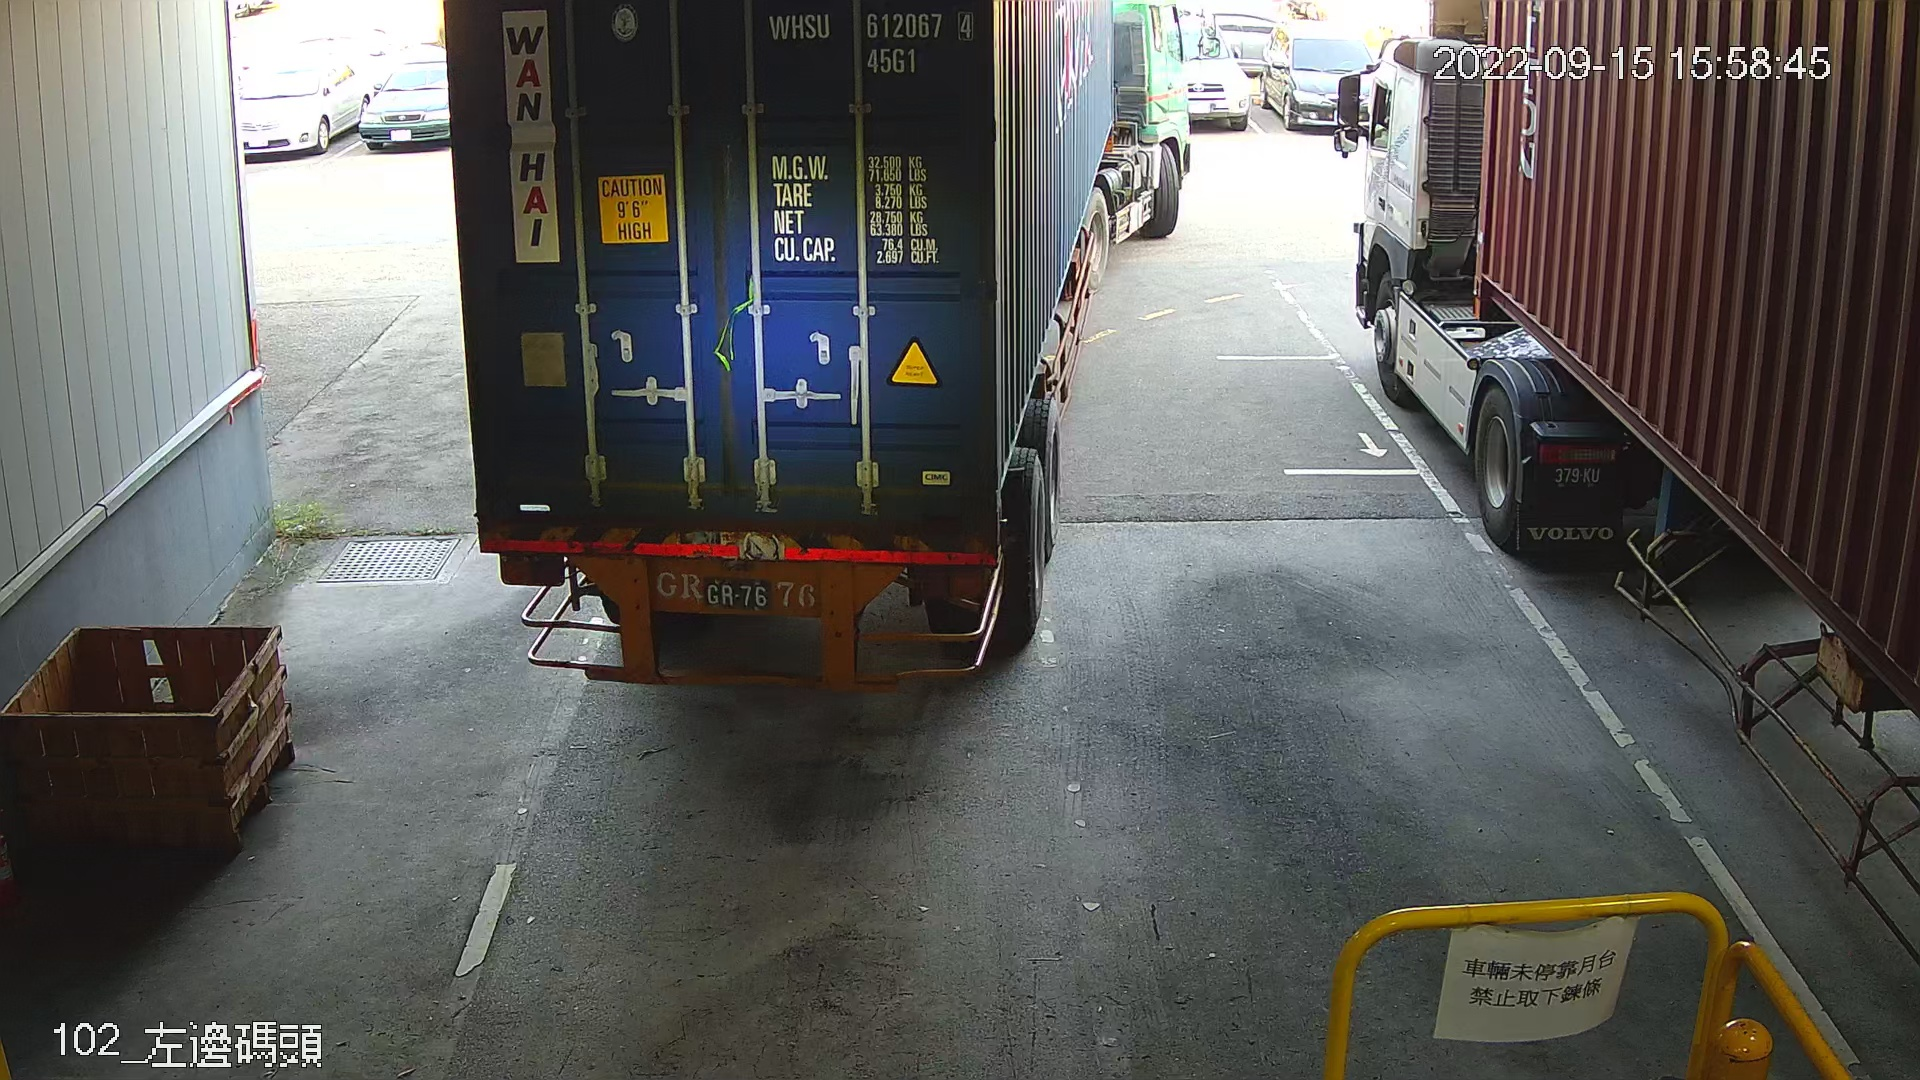container: (760, 5, 982, 83)
